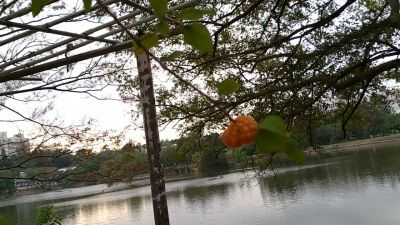eggs: (222, 115, 261, 149)
